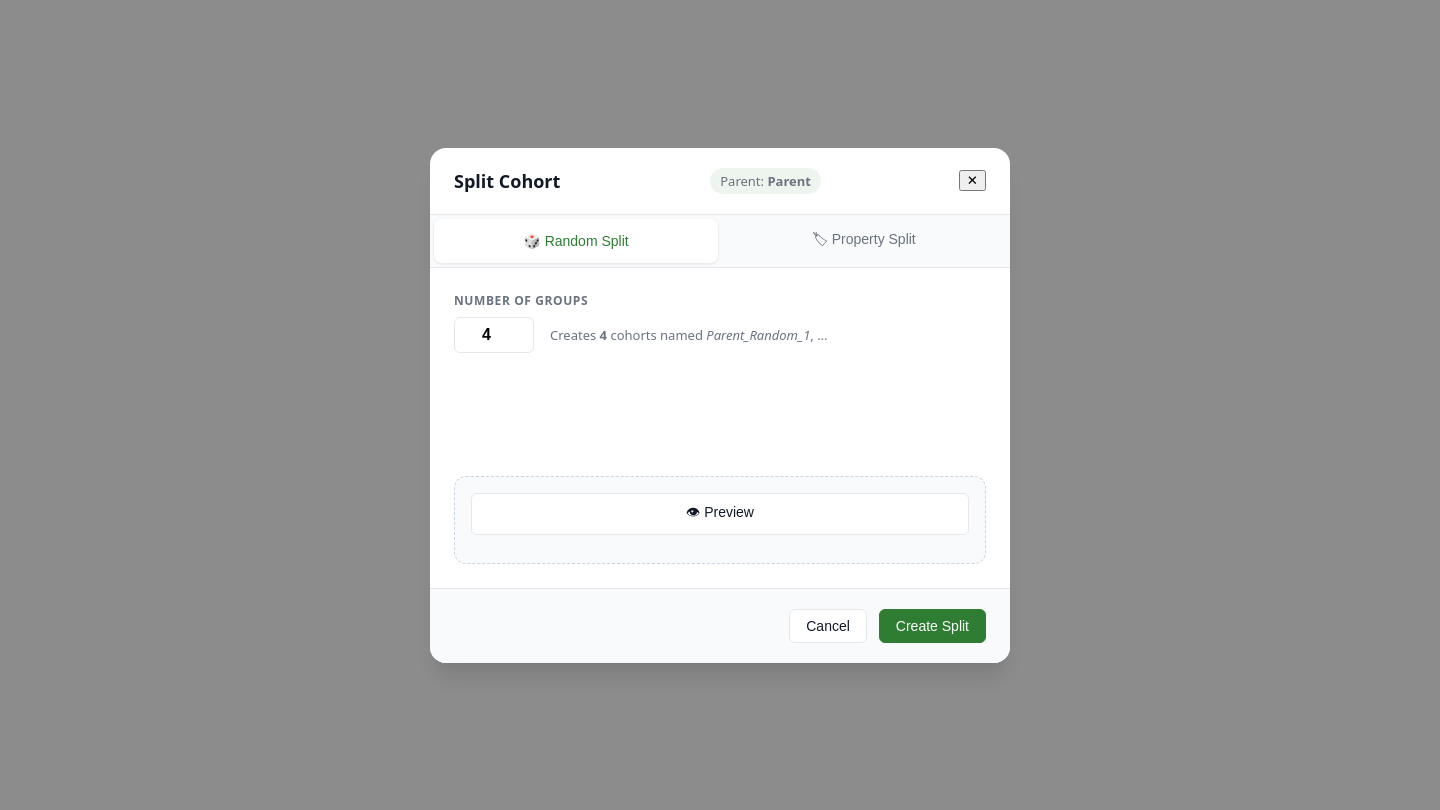
CohortSplitModal Property Tab › renders property tab without crashing
# Switch to Property Tab
Step 1. Click the button "🏷 Property Split" → (864, 240), box [722,218,1006,262]
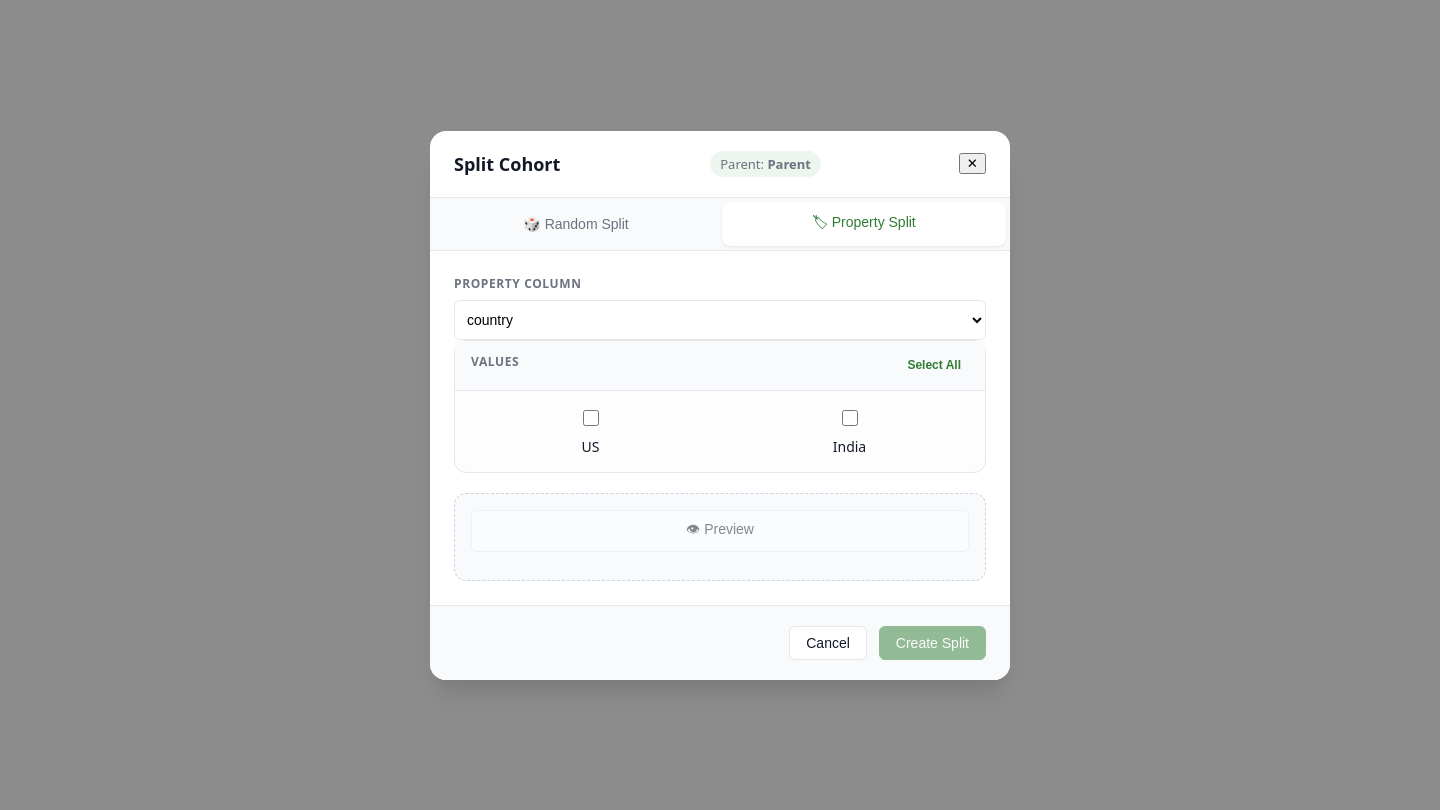
expect the dropdown labelled "Property column" is shown: met, box [454,300,986,340]
